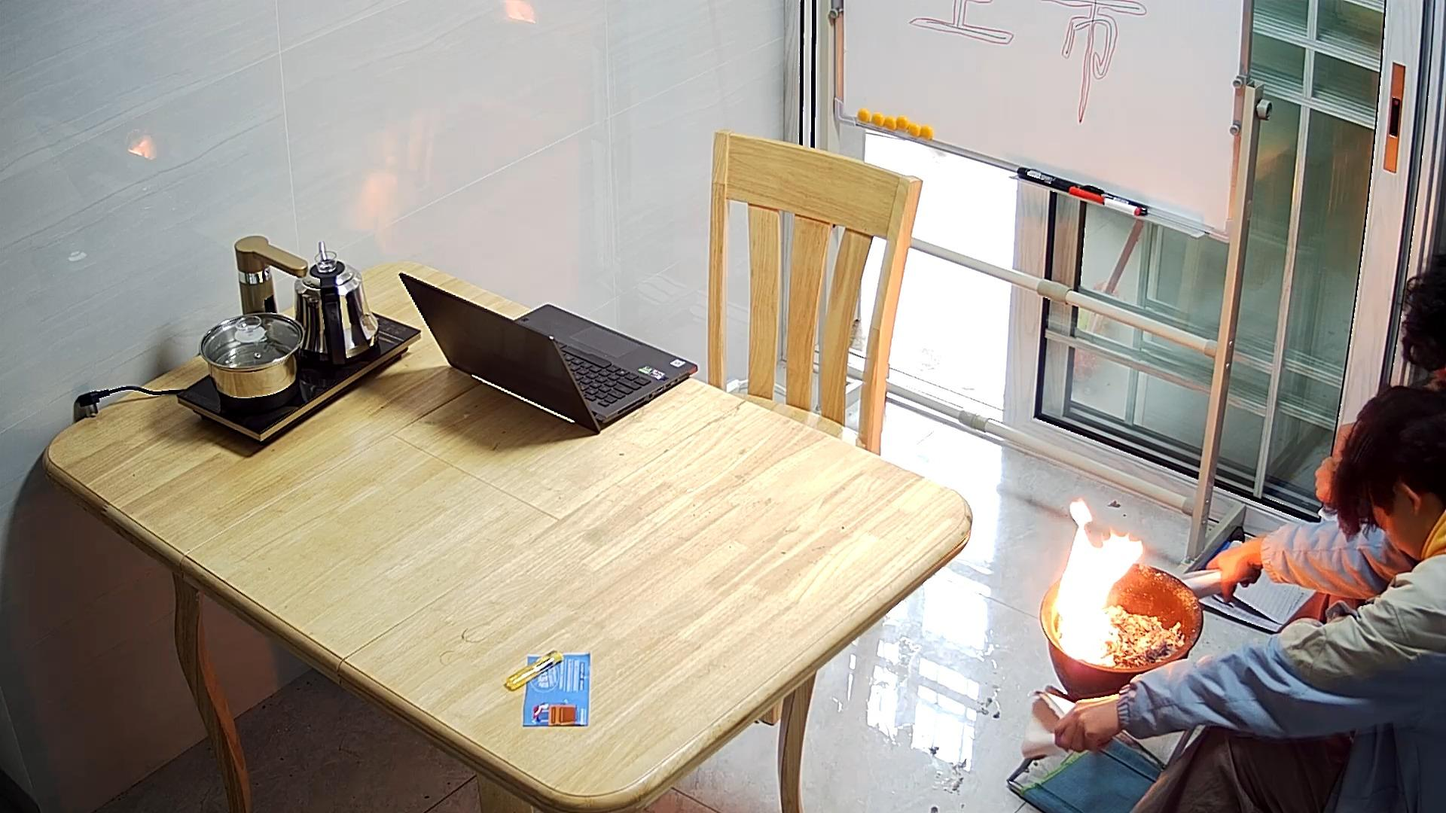fire: (1056, 501, 1142, 662)
